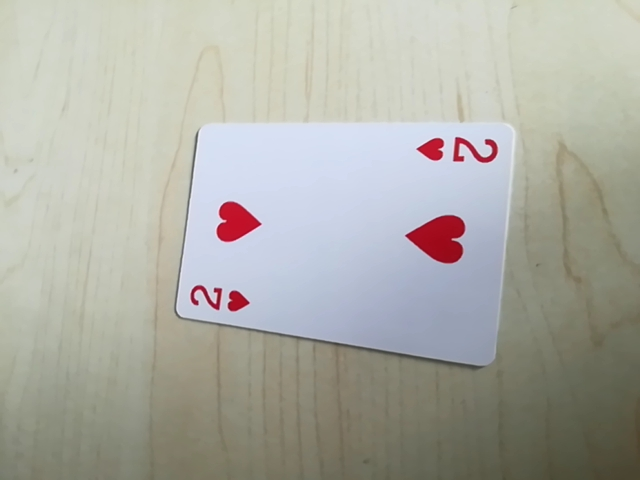hx 2: (414, 127, 505, 172), (180, 277, 256, 321)
